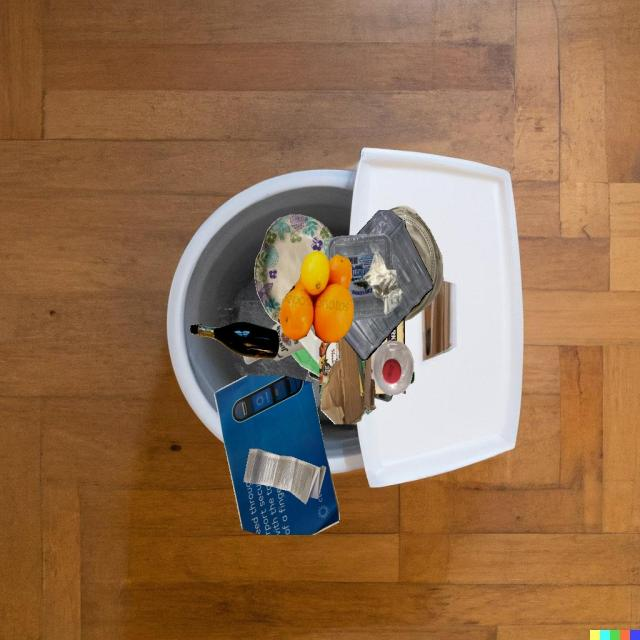biowaste: (279, 250, 354, 343)
cardboard: (254, 214, 334, 326), (321, 336, 376, 425), (337, 355, 405, 390), (319, 338, 339, 394), (374, 394, 393, 402), (308, 370, 319, 381)
glass: (388, 206, 443, 321), (190, 321, 279, 359), (270, 323, 305, 360)
paper: (214, 376, 340, 535), (243, 449, 326, 504), (363, 251, 403, 315), (298, 323, 319, 365)
plastic: (343, 210, 433, 360), (327, 233, 393, 321), (372, 340, 414, 395), (291, 348, 319, 377)
